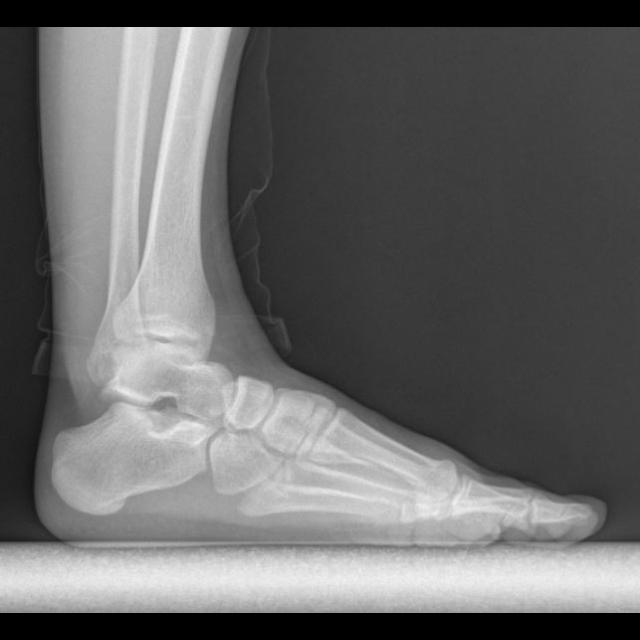a: (51, 402, 215, 514)
b: (224, 377, 274, 430)
c: (307, 405, 460, 502)
